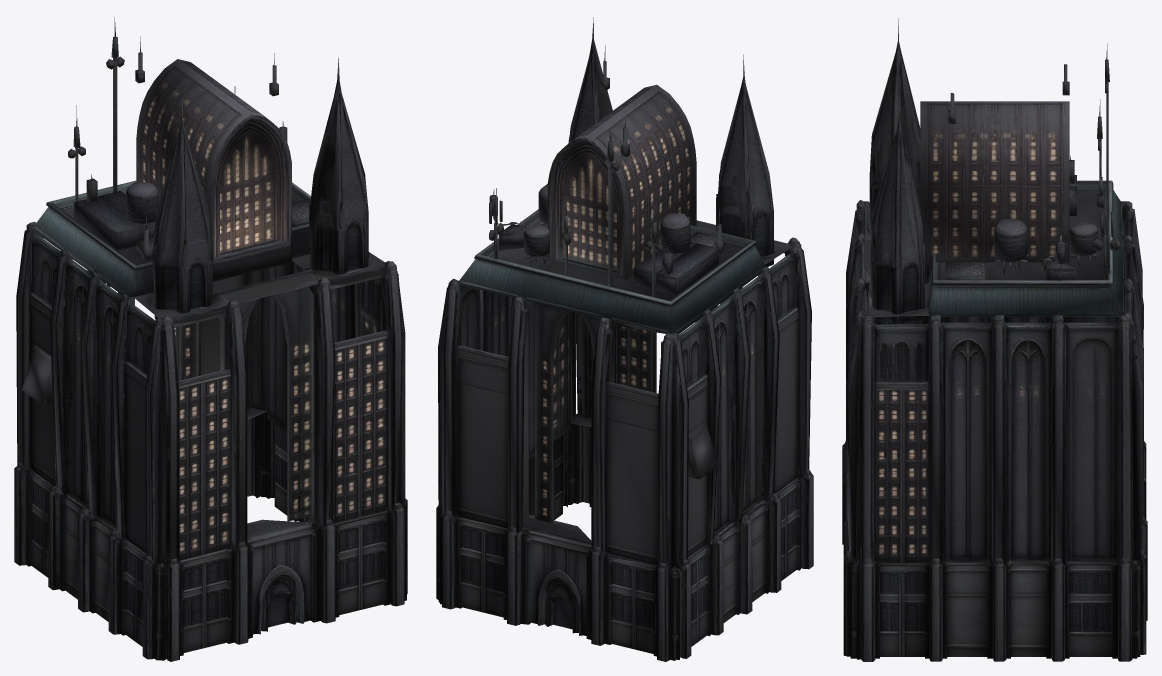
The model's file is asset_pack_item_glb-vd7cxkype8hjmjh2dz3cd04pa58btdj9-2-ks7bpcz4m42vj9kwp1mn29r6wx8btjpn.glb.
3 renders of one model, left to right at view 1: azimuth 30°, elevation 25°; view 2: azimuth 150°, elevation 25°; view 3: azimuth 270°, elevation 25°, orthographic. The views are drawn at different scales.
Visible parts, largest first — view 1: deco-tower-twin; view 2: deco-tower-twin; view 3: deco-tower-twin.
Boxes of the visible parts, x1,y1,x2,y2 form: deco-tower-twin: (14, 17, 407, 661); deco-tower-twin: (436, 17, 813, 661); deco-tower-twin: (842, 18, 1147, 661).
Bounding box in the file's own units: 0.5137 × 0.998 × 0.5059.
1 material, 1 textured.
